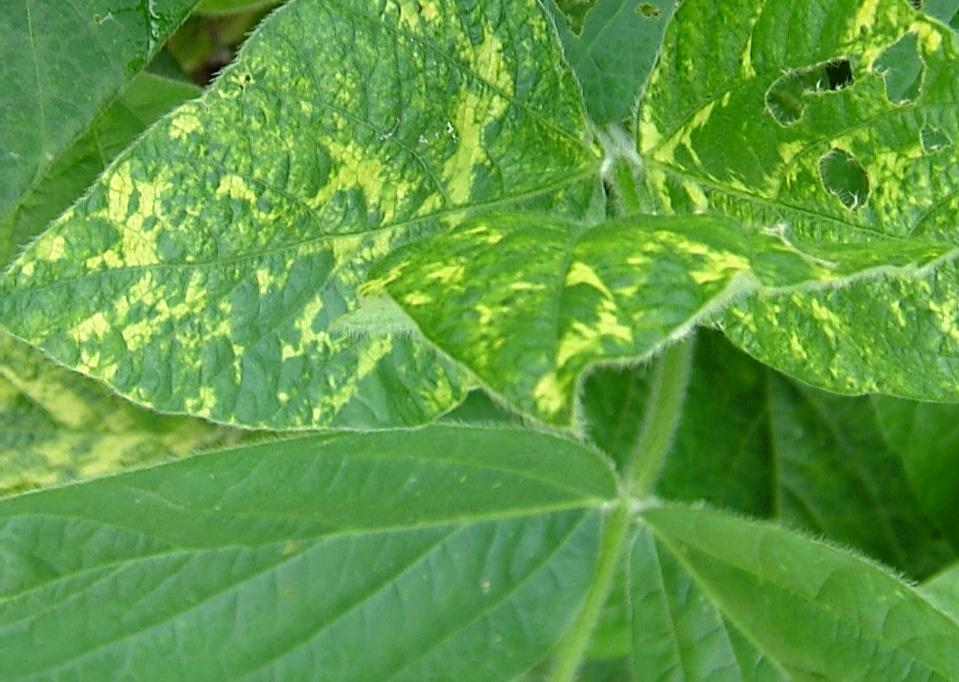Tomato leaf: (0, 419, 618, 682)
Tomato leaf mosaic virus: (22, 0, 594, 409), (636, 0, 959, 429)
